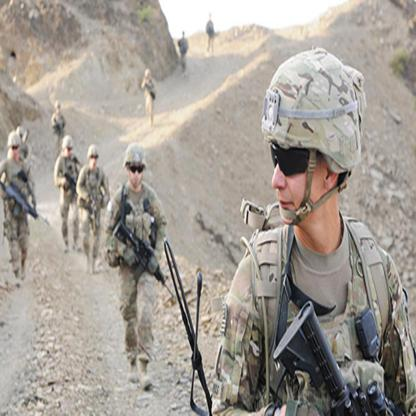face: (272, 116, 325, 226), (130, 157, 144, 188), (12, 143, 20, 158), (91, 154, 98, 170), (66, 143, 73, 158), (57, 107, 61, 113)
